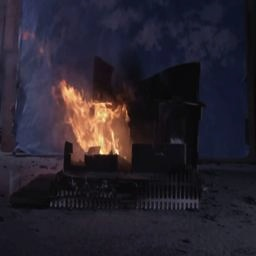fire: (51, 72, 139, 163)
